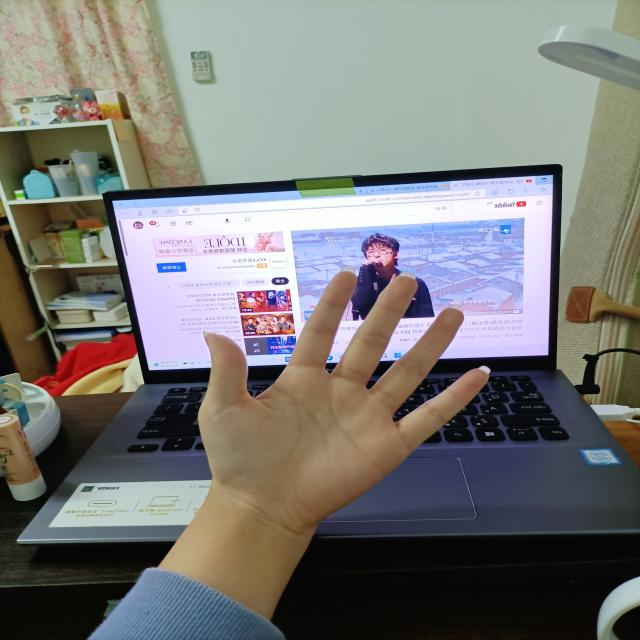no_glove: (179, 260, 509, 540)
